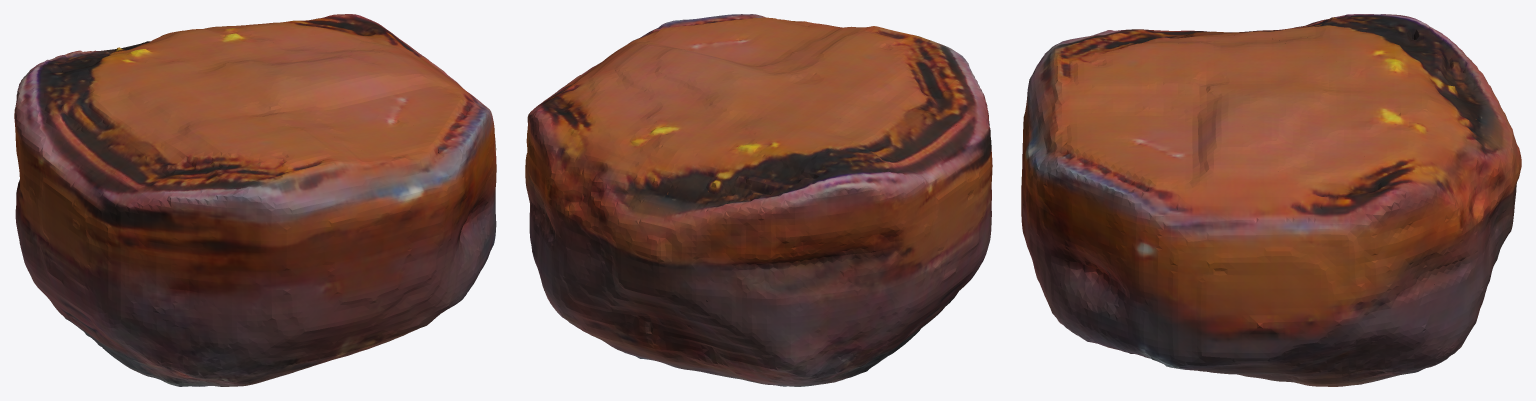
File: resize3d.obj
3 views of the same model, side by side, from view 1: azimuth 30°, elevation 25°; view 2: azimuth 150°, elevation 25°; view 3: azimuth 270°, elevation 25° (orthographic). The views are drawn at different scales.
Size of the model in its own units: 0.0315 by 0.0191 by 0.0323.
